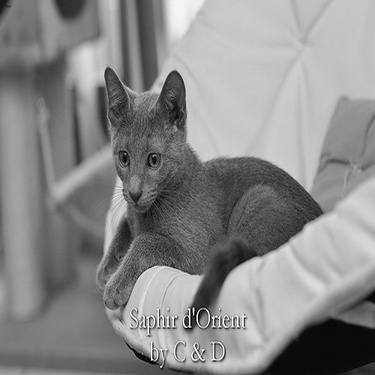cat: (91, 59, 328, 331)
